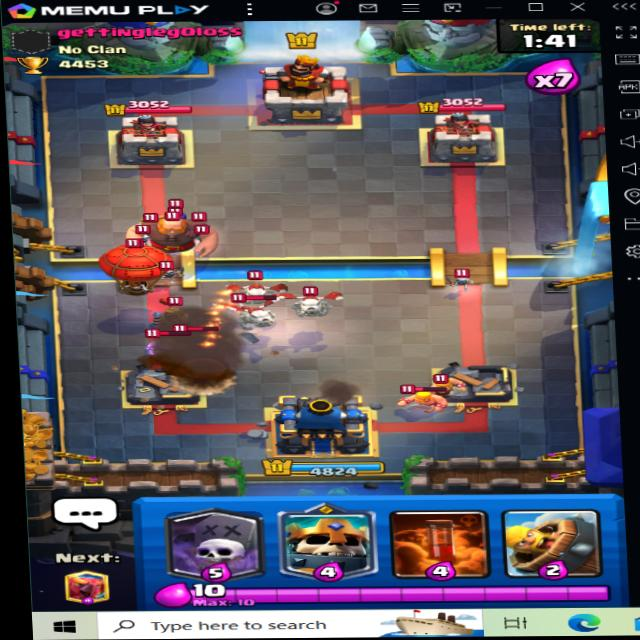balloon: (98, 233, 171, 298)
barbarian: (141, 330, 197, 356), (398, 381, 446, 411), (423, 369, 472, 392)
giant: (128, 211, 220, 263)
prince: (141, 296, 208, 342)
skeleton: (450, 266, 479, 288), (164, 262, 184, 281)
skeleton-dragon: (225, 272, 287, 308), (292, 285, 352, 322), (223, 299, 286, 331)
